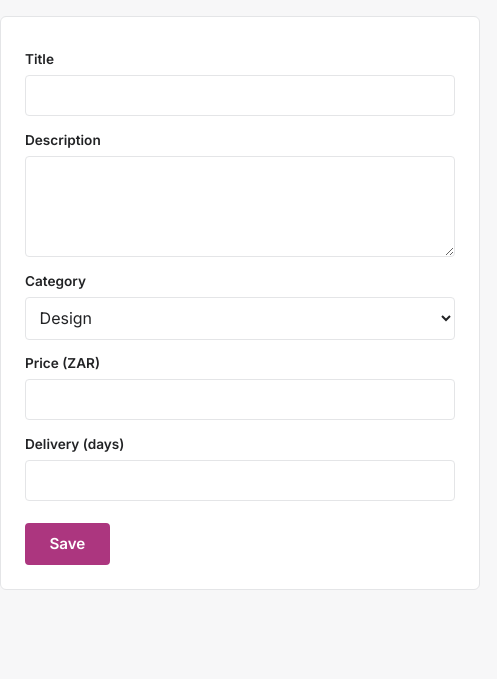
Test: GigForm › shows a validation error when price is not positive
The image size is (497, 679).
Type "Valid Title" into the field labelled "Title" at (240, 96), box [25,75,455,116]
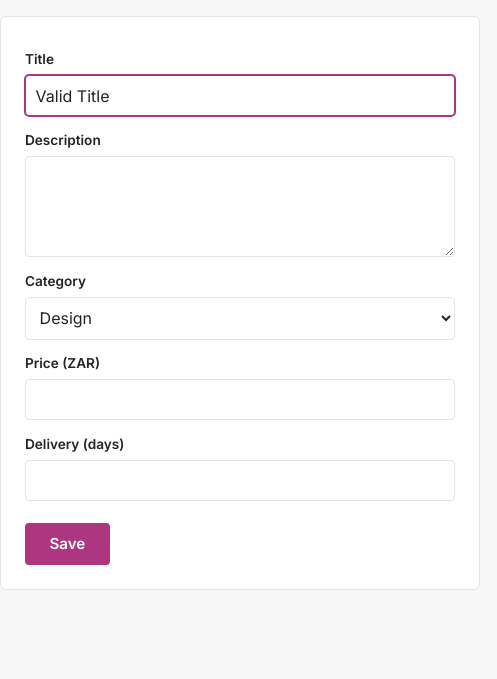
Type "A valid description here." into the text box labelled "Description" at (240, 206), box [25,156,455,257]
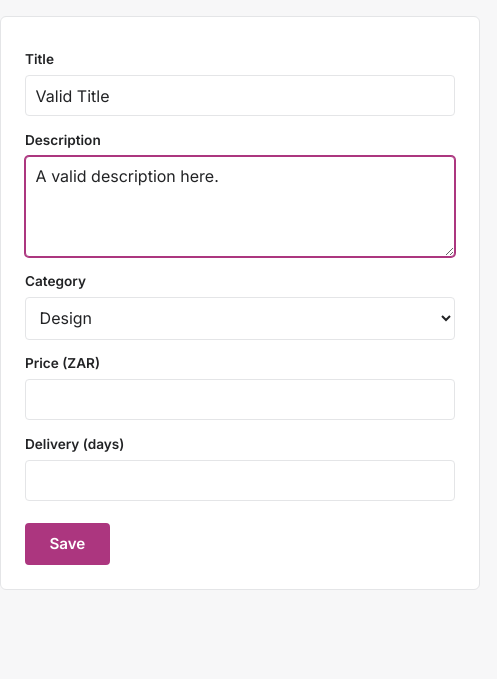
Type "0" into the number field labelled "Price (ZAR)" at (240, 400), box [25,379,455,420]
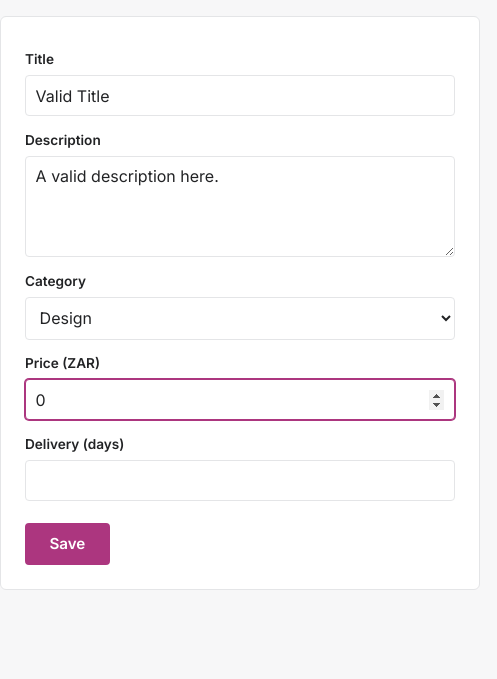
Type "3" into the number field labelled "Delivery (days)" at (240, 481), box [25,460,455,501]
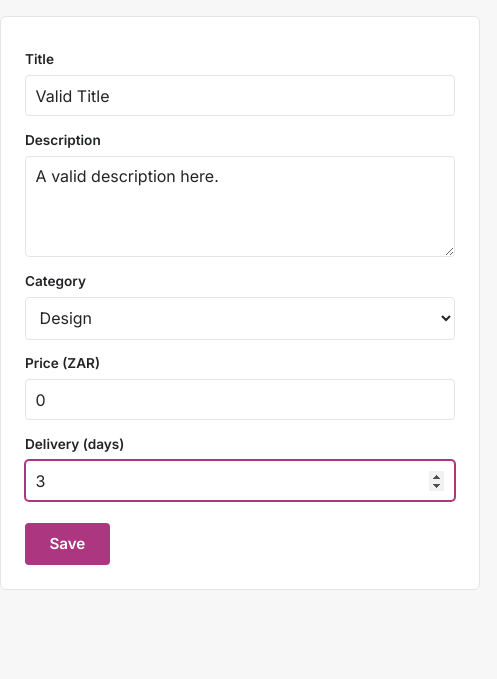
Click the button "Save" at (67, 544), box [25,523,110,565]
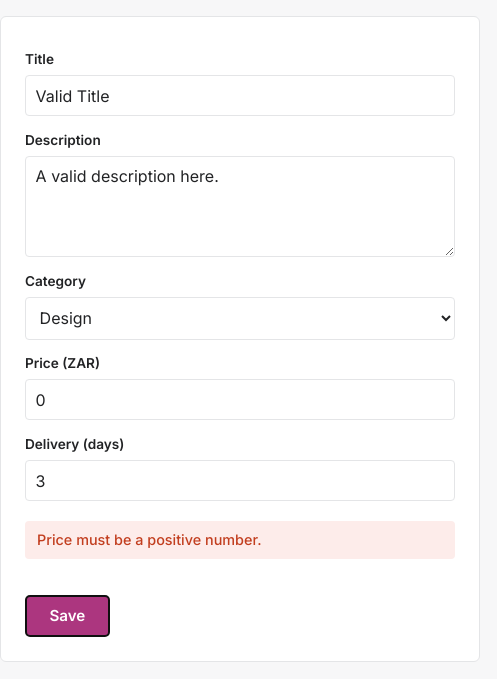
expect the message shows "Price must be a positive number": met, box [37,531,262,548]
